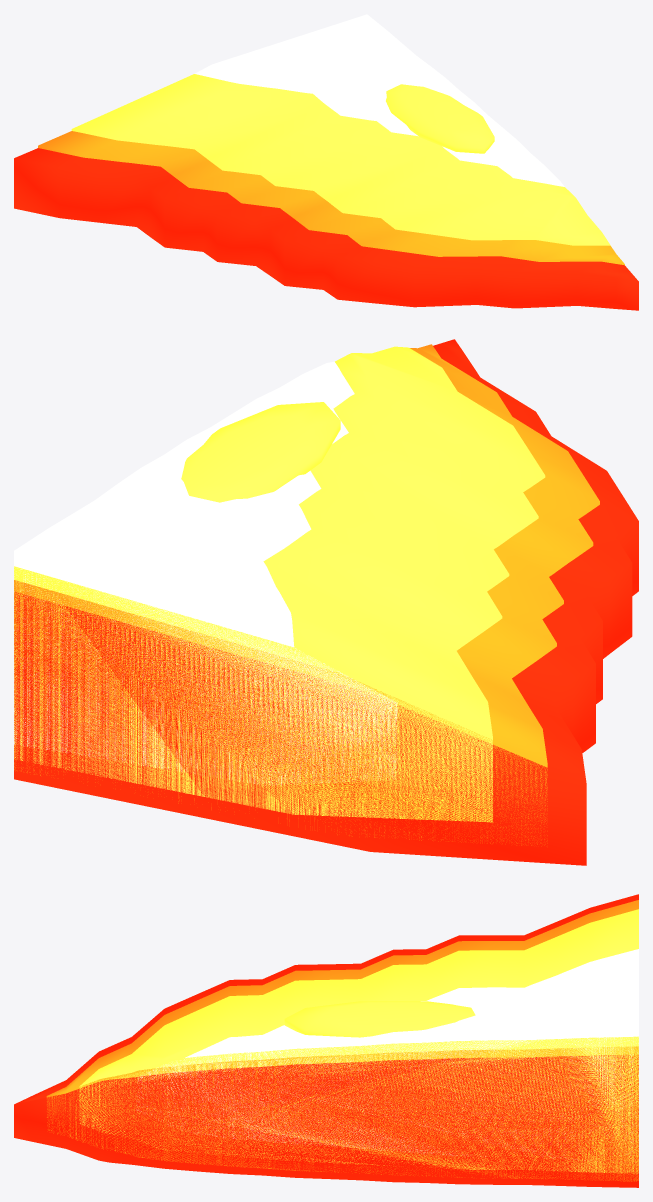
The model's file is newshk-89.glb.
3 views of the same model, one above another, from view 1: azimuth 30°, elevation 25°; view 2: azimuth 150°, elevation 25°; view 3: azimuth 270°, elevation 25° (orthographic). The views are drawn at different scales.
Parts seen in each view (by area): view 1: newshk-89; view 2: newshk-89; view 3: newshk-89.
Boxes of the visible parts, <box> form: newshk-89: <box>14,14,638,310</box>; newshk-89: <box>14,339,638,865</box>; newshk-89: <box>14,894,638,1187</box>.
Bounding box in the file's own units: 1.19 × 0.4553 × 1.59.
